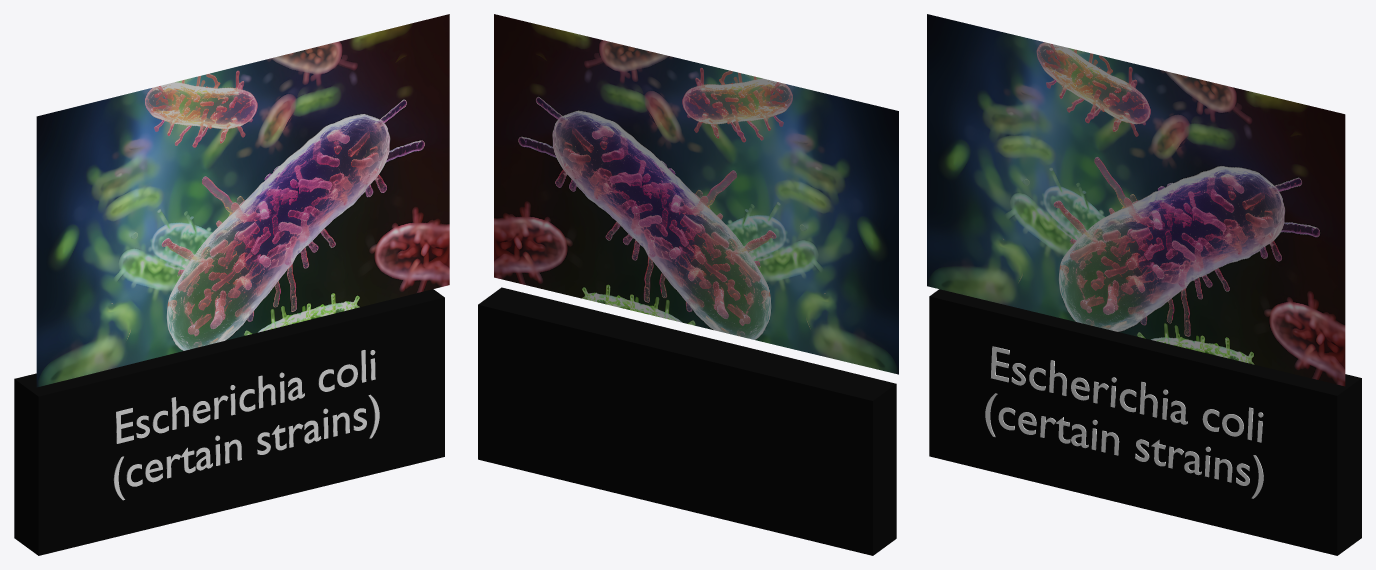
Rendered from ecoli.gltf.
3 renders of one model, left to right at view 1: azimuth 30°, elevation 25°; view 2: azimuth 150°, elevation 25°; view 3: azimuth 330°, elevation 25°, orthographic. The views are drawn at different scales.
Visible parts, largest first — view 1: ecoli, Cube.008, Text; view 2: ecoli, Cube.008; view 3: ecoli, Cube.008, Text.
Boxes of the visible parts, x1,y1,x2,y2 form: ecoli: (36,14,449,387); Cube.008: (14,289,444,555); Text: (113,350,379,500); ecoli: (494,14,898,374); Cube.008: (478,287,896,555); ecoli: (927,14,1345,386); Cube.008: (929,289,1361,555); Text: (985,346,1263,498).
Bounding box in the file's own units: 2.08 × 2.11 × 0.3034.
Materials: 2 (1 with a texture image).
